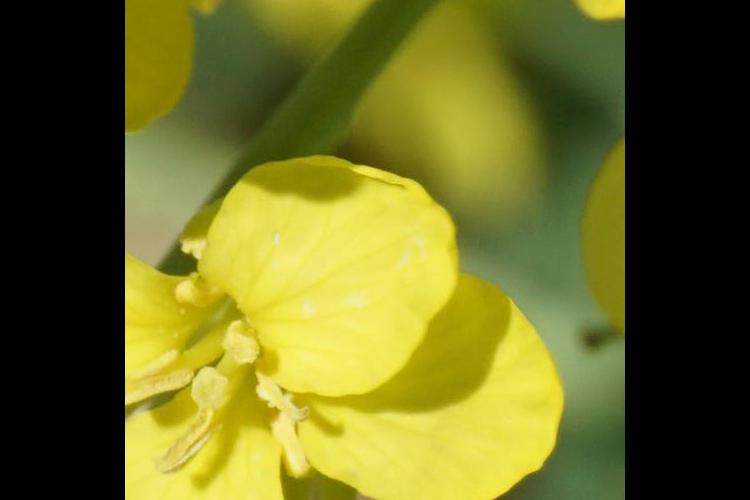yellow: (137, 161, 548, 500)
